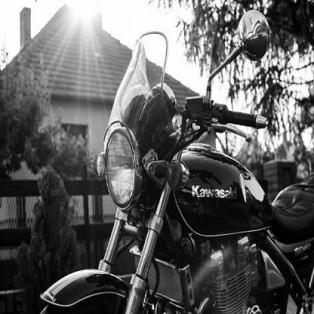Motocicleta: (34, 2, 313, 313)
